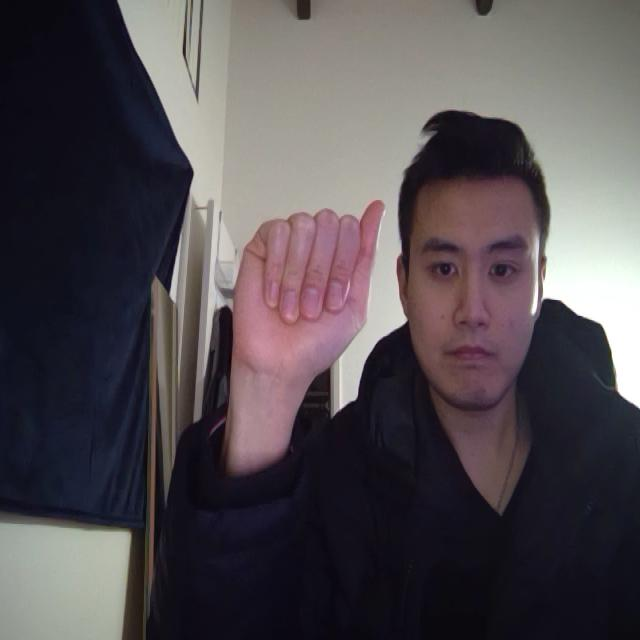A: (214, 178, 417, 474)
